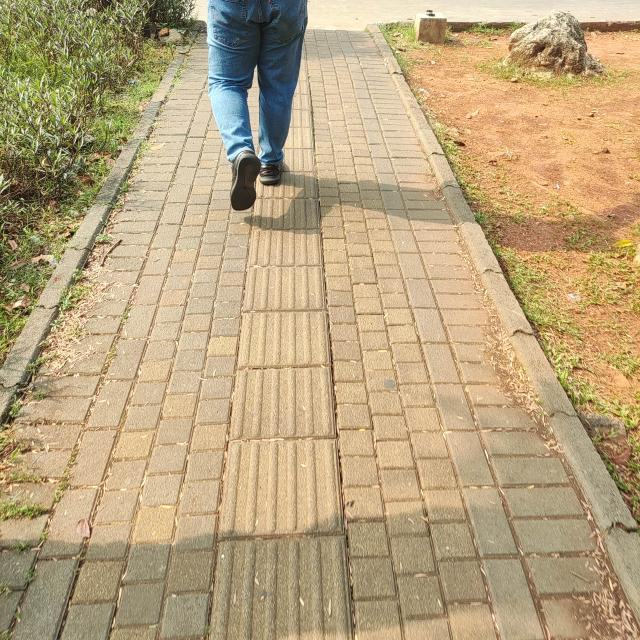lurus: (223, 207, 347, 640)
